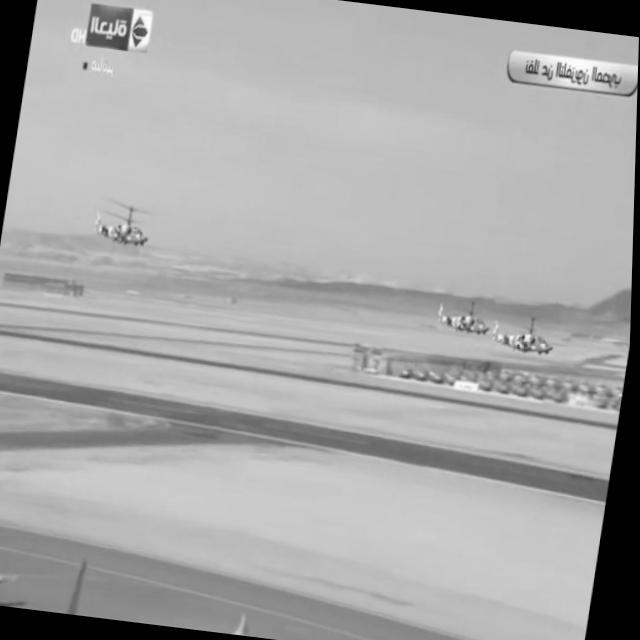helikopter: (76, 186, 163, 266), (490, 301, 564, 377), (423, 281, 498, 355)
